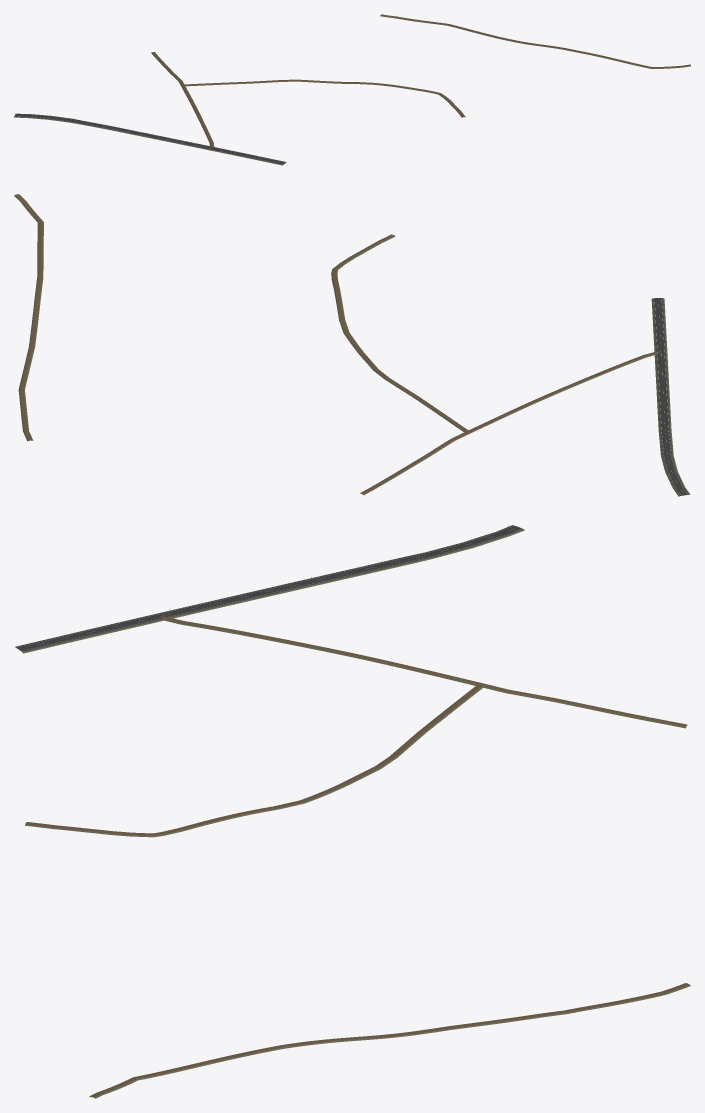
3 views of the same model, one above another, from view 1: azimuth 30°, elevation 25°; view 2: azimuth 150°, elevation 25°; view 3: azimuth 270°, elevation 25° (orthographic). The views are drawn at different scales.
Visible parts, largest first — view 1: roads; view 2: roads; view 3: roads.
Boxes of the visible parts, x1,y1,x2,y2 form: roads: (14, 14, 690, 165); roads: (14, 194, 690, 496); roads: (15, 525, 690, 1098).
Size of the model in its own units: 794 by 53.96 by 410.
